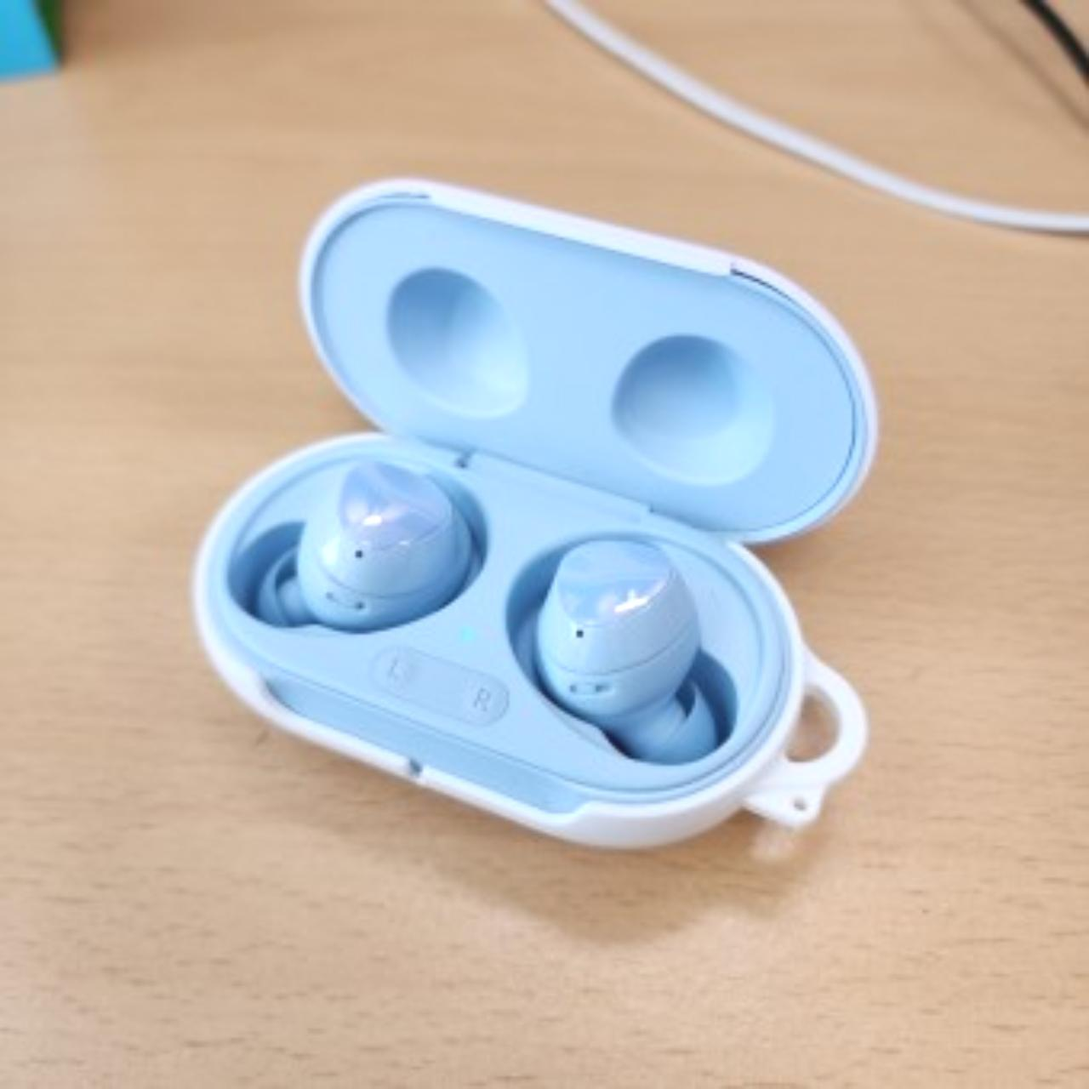Buds: (182, 173, 887, 879)
Buds_Units: (509, 530, 740, 766), (247, 455, 488, 641)
